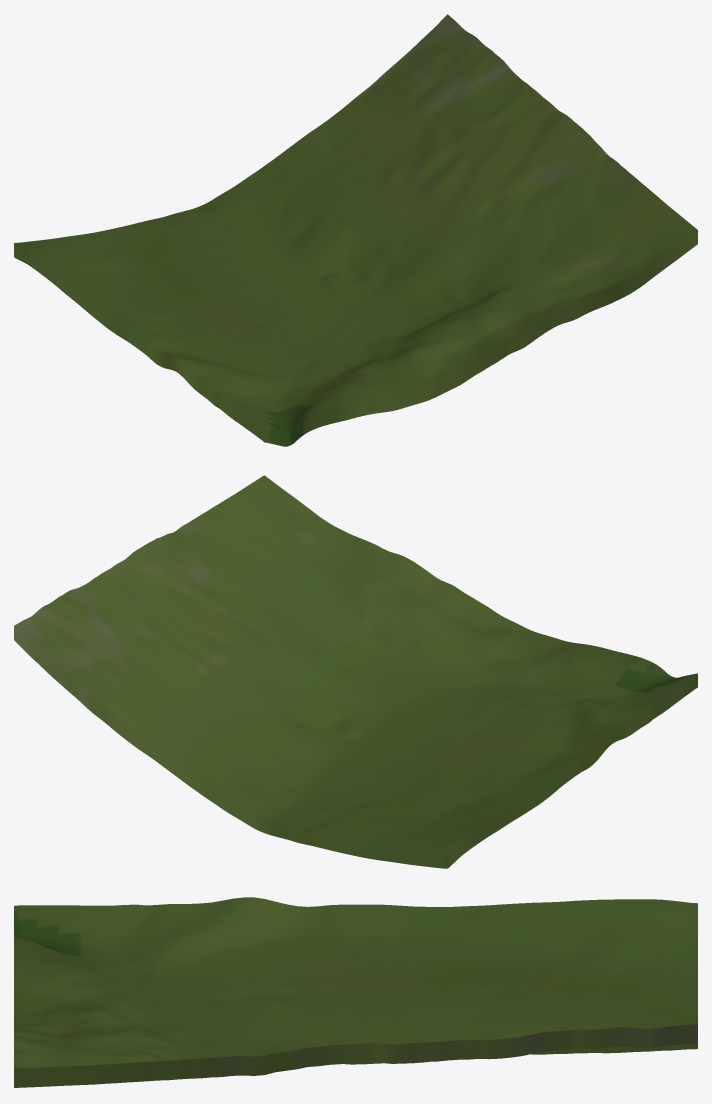
Rendered from terrain_9_-17.glb.
3 renders of one model, top to bottom at view 1: azimuth 30°, elevation 25°; view 2: azimuth 150°, elevation 25°; view 3: azimuth 270°, elevation 25°, orthographic. The views are drawn at different scales.
Parts seen in each view (by area): view 1: terrain_9_-17; view 2: terrain_9_-17; view 3: terrain_9_-17.
Part boxes in pixels (<box>): terrain_9_-17: <box>14,14,697,446</box>; terrain_9_-17: <box>14,475,697,868</box>; terrain_9_-17: <box>14,897,697,1087</box>.
Size of the model in its own units: 256 by 84.07 by 256.
